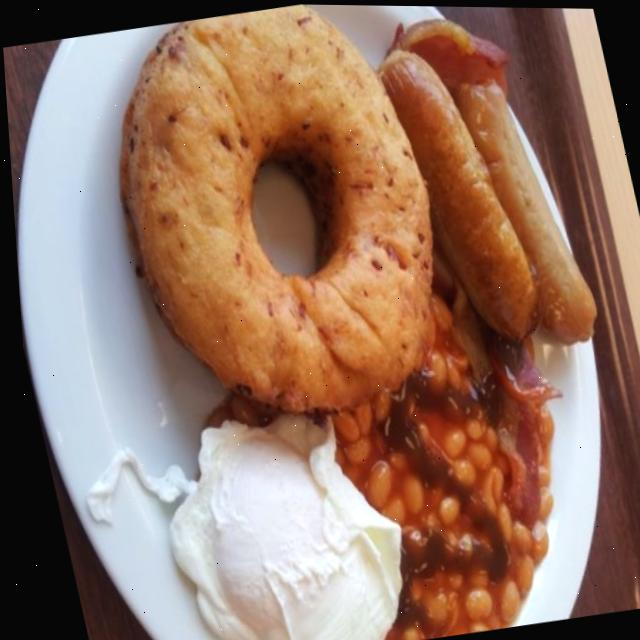炸货点心: (79, 1, 477, 439)
